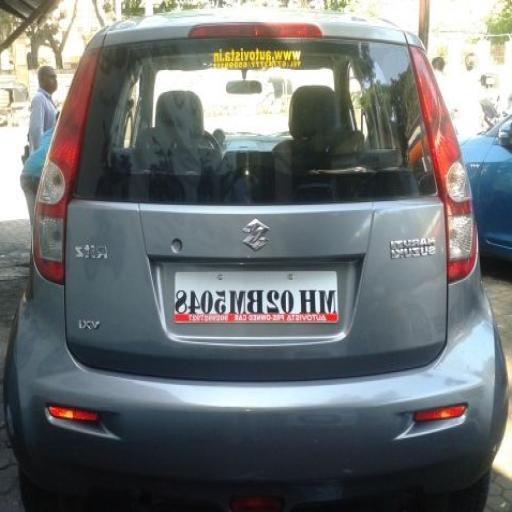License: (174, 268, 340, 323)
